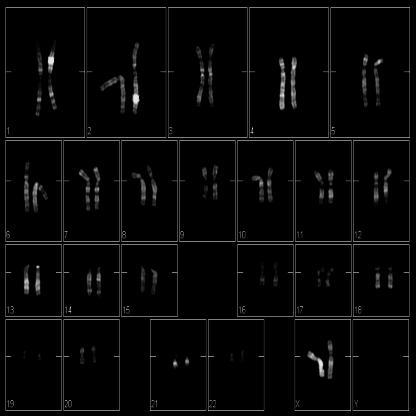1: (32, 36, 43, 118), (48, 38, 58, 112)
10: (249, 174, 266, 206), (266, 166, 274, 208)
11: (312, 168, 326, 208), (326, 167, 336, 208)
12: (382, 165, 393, 209), (372, 170, 381, 212)
13: (33, 264, 43, 299), (22, 263, 31, 296)
14: (96, 264, 104, 300), (86, 266, 94, 299)
15: (138, 264, 147, 296), (150, 266, 158, 296)
16: (271, 259, 280, 289), (258, 258, 266, 288)
17: (324, 266, 335, 292), (316, 264, 326, 289)
18: (372, 262, 382, 292), (385, 263, 394, 290)
19: (35, 350, 43, 370), (20, 347, 27, 362)
2: (99, 74, 127, 116), (131, 40, 141, 118)
20: (90, 342, 98, 366), (78, 346, 86, 368)
21: (170, 352, 180, 372), (183, 353, 192, 370)
22: (240, 347, 247, 364), (228, 350, 235, 366)
3: (194, 42, 206, 108), (206, 42, 216, 110)
4: (276, 56, 288, 113), (289, 54, 298, 112)
5: (372, 58, 386, 110), (362, 51, 370, 110)
6: (31, 180, 50, 214), (22, 160, 32, 216)
7: (78, 167, 92, 214), (91, 164, 103, 212)
8: (144, 162, 158, 209), (130, 170, 147, 206)
9: (210, 162, 221, 204), (200, 164, 210, 206)
X: (306, 348, 326, 380), (325, 336, 335, 382)
